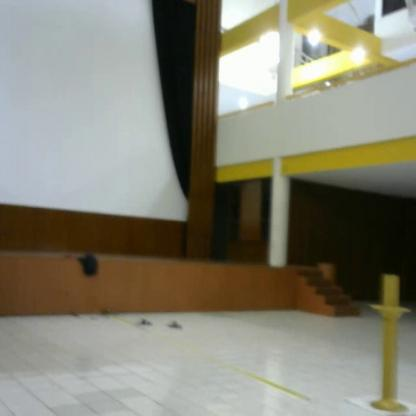pole: (367, 270, 416, 416)
